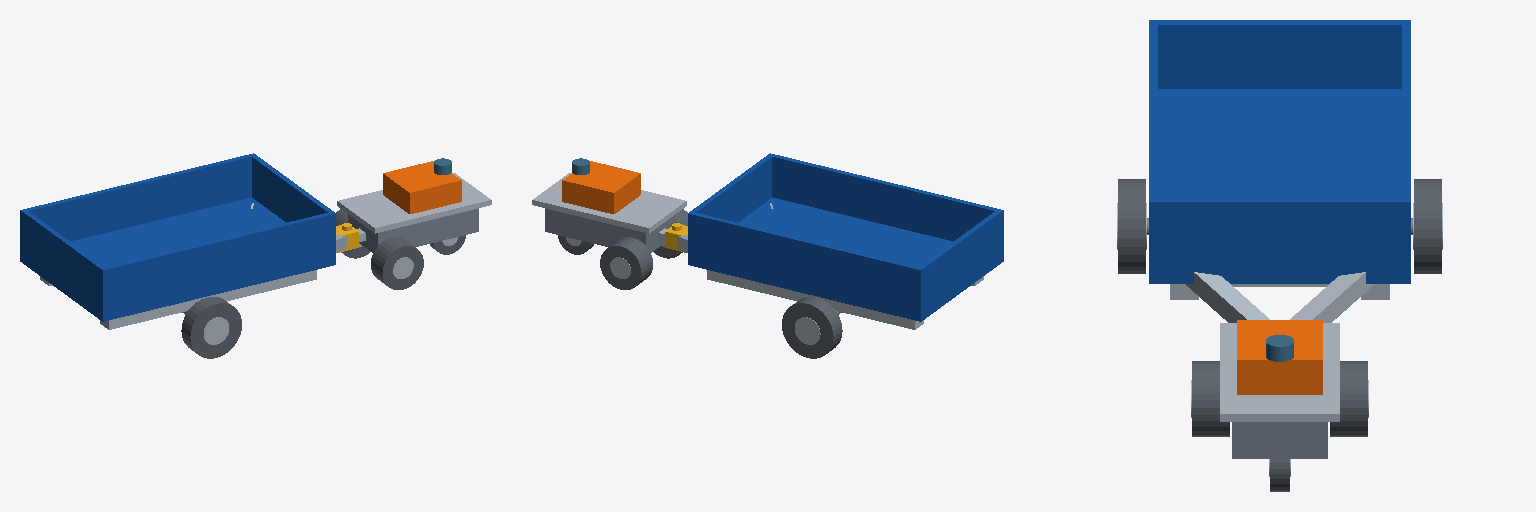
robot.urdf — innok223_01:
<?xml version="1.0" encoding="utf-8"?>
<robot name="innok223_01">
  <material name="innok_orange">
    <color rgba="0.98 0.48 0.10 1" />
  </material>
  <material name="chassis_grey">
    <color rgba="0.52 0.57 0.62 1" />
  </material>
  <material name="rubber">
    <color rgba="0.40 0.43 0.46 1" />
  </material>
  <material name="silver">
    <color rgba="0.72 0.76 0.80 1" />
  </material>
  <material name="deck_blue">
    <color rgba="0.13 0.40 0.72 1" />
  </material>
  <material name="sensor_dark">
    <color rgba="0.28 0.48 0.58 1" />
  </material>
  <link name="innok223_base_link">
    <inertial>
      <origin xyz="0.29 0 0.3" rpy="0 0 0" />
      <mass value="70" />
      <inertia ixx="1.2693333333333334" iyy="3.8850000000000002" izz="4.482333333333334" ixy="0" ixz="0" iyz="0" />
    </inertial>
    <visual name="innok223_base_link_visual_0">
      <origin xyz="0.29 0 0.3" rpy="0 0 0" />
      <geometry>
        <box size="0.78 0.4 0.2" />
      </geometry>
      <material name="chassis_grey">
        <color rgba="0.52 0.57 0.62 1" />
      </material>
    </visual>
    <collision name="innok223_base_link_collision_0">
      <origin xyz="0.29 0 0.3" rpy="0 0 0" />
      <geometry>
        <box size="0.78 0.4 0.2" />
      </geometry>
    </collision>
    <visual name="innok223_base_link_visual_1">
      <origin xyz="0.3 0 0.42" rpy="0 0 0" />
      <geometry>
        <box size="0.9 0.5 0.04" />
      </geometry>
      <material name="silver">
        <color rgba="0.72 0.76 0.80 1" />
      </material>
    </visual>
    <collision name="innok223_base_link_collision_1">
      <origin xyz="0.3 0 0.42" rpy="0 0 0" />
      <geometry>
        <box size="0.9 0.5 0.04" />
      </geometry>
    </collision>
    <visual name="innok223_base_link_visual_2">
      <origin xyz="0.36 0 0.52" rpy="0 0 0" />
      <geometry>
        <box size="0.4 0.36 0.16" />
      </geometry>
      <material name="innok_orange">
        <color rgba="0.98 0.48 0.10 1" />
      </material>
    </visual>
    <collision name="innok223_base_link_collision_2">
      <origin xyz="0.36 0 0.52" rpy="0 0 0" />
      <geometry>
        <box size="0.4 0.36 0.16" />
      </geometry>
    </collision>
    <visual name="innok223_base_link_visual_3">
      <origin xyz="0.52 0 0.635" rpy="0 0 0" />
      <geometry>
        <cylinder radius="0.06" length="0.07" />
      </geometry>
      <material name="sensor_dark">
        <color rgba="0.28 0.48 0.58 1" />
      </material>
    </visual>
    <visual name="innok223_base_link_visual_4">
      <origin xyz="-0.16 0 0.28" rpy="0 0 0" />
      <geometry>
        <box size="0.18 0.08 0.06" />
      </geometry>
      <material name="silver">
        <color rgba="0.72 0.76 0.80 1" />
      </material>
    </visual>
    <collision name="innok223_base_link_collision_3">
      <origin xyz="-0.16 0 0.28" rpy="0 0 0" />
      <geometry>
        <box size="0.18 0.08 0.06" />
      </geometry>
    </collision>
    <visual name="innok223_tow_pin_visual">
      <origin xyz="-0.22 0 0.30" rpy="0 0 0" />
      <geometry>
        <cylinder radius="0.032" length="0.16" />
      </geometry>
      <material name="coupler_yellow">
        <color rgba="0.98 0.74 0.15 1" />
      </material>
    </visual>
  </link>
  <link name="innok223_left_wheel_link">
    <inertial>
      <origin xyz="0 0 0" rpy="0 0 0" />
      <mass value="5.4" />
      <inertia ixx="0.04608" iyy="0.06912000000000001" izz="0.04608" ixy="0" ixz="0" iyz="0" />
    </inertial>
    <visual name="innok223_left_wheel_link_visual_0">
      <origin xyz="0 0 0" rpy="1.57079633 0 0" />
      <geometry>
        <cylinder radius="0.16" length="0.16" />
      </geometry>
      <material name="rubber">
        <color rgba="0.40 0.43 0.46 1" />
      </material>
    </visual>
    <collision name="innok223_left_wheel_link_collision_0">
      <origin xyz="0 0 0" rpy="1.57079633 0 0" />
      <geometry>
        <cylinder radius="0.16" length="0.16" />
      </geometry>
    </collision>
    <visual name="innok223_left_wheel_link_visual_1">
      <origin xyz="0 0 0" rpy="1.57079633 0 0" />
      <geometry>
        <cylinder radius="0.08" length="0.166" />
      </geometry>
      <material name="silver">
        <color rgba="0.72 0.76 0.80 1" />
      </material>
    </visual>
  </link>
  <joint name="innok223_left_wheel_joint" type="continuous">
    <parent link="innok223_base_link" />
    <child link="innok223_left_wheel_link" />
    <origin xyz="0 0.29 0.16" rpy="0 0 0" />
    <axis xyz="0 1 0" />
    <limit effort="300" velocity="20" />
    <dynamics damping="0.03" friction="0" />
  </joint>
  <gazebo reference="innok223_left_wheel_link">
    <mu1>1.0</mu1>
    <mu2>1.0</mu2>
  </gazebo>
  <link name="innok223_right_wheel_link">
    <inertial>
      <origin xyz="0 0 0" rpy="0 0 0" />
      <mass value="5.4" />
      <inertia ixx="0.04608" iyy="0.06912000000000001" izz="0.04608" ixy="0" ixz="0" iyz="0" />
    </inertial>
    <visual name="innok223_right_wheel_link_visual_0">
      <origin xyz="0 0 0" rpy="1.57079633 0 0" />
      <geometry>
        <cylinder radius="0.16" length="0.16" />
      </geometry>
      <material name="rubber">
        <color rgba="0.40 0.43 0.46 1" />
      </material>
    </visual>
    <collision name="innok223_right_wheel_link_collision_0">
      <origin xyz="0 0 0" rpy="1.57079633 0 0" />
      <geometry>
        <cylinder radius="0.16" length="0.16" />
      </geometry>
    </collision>
    <visual name="innok223_right_wheel_link_visual_1">
      <origin xyz="0 0 0" rpy="1.57079633 0 0" />
      <geometry>
        <cylinder radius="0.08" length="0.166" />
      </geometry>
      <material name="silver">
        <color rgba="0.72 0.76 0.80 1" />
      </material>
    </visual>
  </link>
  <joint name="innok223_right_wheel_joint" type="continuous">
    <parent link="innok223_base_link" />
    <child link="innok223_right_wheel_link" />
    <origin xyz="0 -0.29 0.16" rpy="0 0 0" />
    <axis xyz="0 1 0" />
    <limit effort="300" velocity="20" />
    <dynamics damping="0.03" friction="0" />
  </joint>
  <gazebo reference="innok223_right_wheel_link">
    <mu1>1.0</mu1>
    <mu2>1.0</mu2>
  </gazebo>
  <link name="innok223_caster_swivel_link">
    <inertial>
      <origin xyz="0 0 -0.06" rpy="0 0 0" />
      <mass value="2" />
      <inertia ixx="0.0048" iyy="0.0048" izz="0.0048" ixy="0" ixz="0" iyz="0" />
    </inertial>
    <visual name="innok223_caster_swivel_link_visual_0">
      <origin xyz="0 0 -0.06" rpy="0 0 0" />
      <geometry>
        <box size="0.12 0.12 0.12" />
      </geometry>
      <material name="chassis_grey">
        <color rgba="0.52 0.57 0.62 1" />
      </material>
    </visual>
    <collision name="innok223_caster_swivel_link_collision_0">
      <origin xyz="0 0 -0.06" rpy="0 0 0" />
      <geometry>
        <box size="0.12 0.12 0.12" />
      </geometry>
    </collision>
  </link>
  <joint name="innok223_caster_swivel_joint" type="revolute">
    <parent link="innok223_base_link" />
    <child link="innok223_caster_swivel_link" />
    <origin xyz="0.55 0 0.3" rpy="0 0 0" />
    <axis xyz="0 0 1" />
    <limit effort="300" velocity="1.0" lower="-1.48352986419518" upper="1.48352986419518" />
    <dynamics damping="0.05" friction="0" />
  </joint>
  <link name="innok223_caster_wheel_link">
    <inertial>
      <origin xyz="0 0 0" rpy="0 0 0" />
      <mass value="3" />
      <inertia ixx="0.013525" iyy="0.0234375" izz="0.013525" ixy="0" ixz="0" iyz="0" />
    </inertial>
    <visual name="innok223_caster_wheel_link_visual_0">
      <origin xyz="0 0 0" rpy="1.57079633 0 0" />
      <geometry>
        <cylinder radius="0.125" length="0.085" />
      </geometry>
      <material name="rubber">
        <color rgba="0.40 0.43 0.46 1" />
      </material>
    </visual>
    <collision name="innok223_caster_wheel_link_collision_0">
      <origin xyz="0 0 0" rpy="1.57079633 0 0" />
      <geometry>
        <cylinder radius="0.125" length="0.085" />
      </geometry>
    </collision>
    <visual name="innok223_caster_wheel_link_visual_1">
      <origin xyz="0 0 0" rpy="1.57079633 0 0" />
      <geometry>
        <cylinder radius="0.0625" length="0.09100000000000001" />
      </geometry>
      <material name="silver">
        <color rgba="0.72 0.76 0.80 1" />
      </material>
    </visual>
  </link>
  <joint name="innok223_caster_wheel_joint" type="continuous">
    <parent link="innok223_caster_swivel_link" />
    <child link="innok223_caster_wheel_link" />
    <origin xyz="0 0 -0.175" rpy="0 0 0" />
    <axis xyz="0 1 0" />
    <limit effort="300" velocity="20" />
    <dynamics damping="0.03" friction="0" />
  </joint>
  <gazebo reference="innok223_caster_wheel_link">
    <mu1>1.0</mu1>
    <mu2>1.0</mu2>
  </gazebo>
  <link name="innok223_trailer_link">
    <inertial>
      <origin xyz="-1.3000000000000003 0.0 0.13571428571428568" rpy="0 0 0" />
      <mass value="70" />
      <inertia ixx="8.95024761904762" iyy="21.72884761904762" izz="29.057666666666673" ixy="0.0" ixz="-5.551115123125783e-17" iyz="0.0" />
    </inertial>
    <visual name="innok223_trailer_link_visual_0">
      <origin xyz="-1.3 0 0.16" rpy="0 0 0" />
      <geometry>
        <box size="1.8 1.1 0.08" />
      </geometry>
      <material name="deck_blue">
        <color rgba="0.13 0.40 0.72 1" />
      </material>
    </visual>
    <collision name="innok223_trailer_link_collision_0">
      <origin xyz="-1.3 0 0.16" rpy="0 0 0" />
      <geometry>
        <box size="1.8 1.1 0.08" />
      </geometry>
    </collision>
    <visual name="innok223_trailer_link_visual_1">
      <origin xyz="-1.3 0.4 0.06" rpy="0 0 0" />
      <geometry>
        <box size="1.6 0.12 0.12" />
      </geometry>
      <material name="silver">
        <color rgba="0.72 0.76 0.80 1" />
      </material>
    </visual>
    <collision name="innok223_trailer_link_collision_1">
      <origin xyz="-1.3 0.4 0.06" rpy="0 0 0" />
      <geometry>
        <box size="1.6 0.12 0.12" />
      </geometry>
    </collision>
    <visual name="innok223_trailer_link_visual_2">
      <origin xyz="-1.3 -0.4 0.06" rpy="0 0 0" />
      <geometry>
        <box size="1.6 0.12 0.12" />
      </geometry>
      <material name="silver">
        <color rgba="0.72 0.76 0.80 1" />
      </material>
    </visual>
    <collision name="innok223_trailer_link_collision_2">
      <origin xyz="-1.3 -0.4 0.06" rpy="0 0 0" />
      <geometry>
        <box size="1.6 0.12 0.12" />
      </geometry>
    </collision>
    <visual name="innok223_trailer_link_visual_3">
      <origin xyz="-1.4 0 -0.08" rpy="1.57079633 0 0" />
      <geometry>
        <cylinder radius="0.035" length="1.24" />
      </geometry>
      <material name="chassis_grey">
        <color rgba="0.52 0.57 0.62 1" />
      </material>
    </visual>
    <collision name="innok223_trailer_link_collision_3">
      <origin xyz="-1.4 0 -0.08" rpy="1.57079633 0 0" />
      <geometry>
        <cylinder radius="0.035" length="1.24" />
      </geometry>
    </collision>
    <visual name="innok223_trailer_link_visual_4">
      <origin xyz="0 0 0" rpy="0 0 0" />
      <geometry>
        <sphere radius="0.048" />
      </geometry>
      <material name="silver">
        <color rgba="0.72 0.76 0.80 1" />
      </material>
    </visual>
    <visual name="innok223_tongue_left_visual">
      <origin xyz="-0.27 0.2 0.08" rpy="0 0.24486385420562135 -0.6747409422235527" />
      <geometry>
        <box size="0.66 0.09 0.09" />
      </geometry>
      <material name="silver">
        <color rgba="0.72 0.76 0.80 1" />
      </material>
    </visual>
    <collision name="innok223_tongue_left_collision">
      <origin xyz="-0.27 0.2 0.08" rpy="0 0.24486385420562135 -0.6747409422235527" />
      <geometry>
        <box size="0.66 0.09 0.09" />
      </geometry>
    </collision>
    <visual name="innok223_tongue_right_visual">
      <origin xyz="-0.27 -0.2 0.08" rpy="0 0.24486385420562135 0.6747409422235527" />
      <geometry>
        <box size="0.66 0.09 0.09" />
      </geometry>
      <material name="silver">
        <color rgba="0.72 0.76 0.80 1" />
      </material>
    </visual>
    <collision name="innok223_tongue_right_collision">
      <origin xyz="-0.27 -0.2 0.08" rpy="0 0.24486385420562135 0.6747409422235527" />
      <geometry>
        <box size="0.66 0.09 0.09" />
      </geometry>
    </collision>
    <visual name="innok223_tongue_crossmember_visual">
      <origin xyz="-0.52 0 0.14" rpy="0 0 0" />
      <geometry>
        <box size="0.16 0.88 0.1" />
      </geometry>
      <material name="silver">
        <color rgba="0.72 0.76 0.80 1" />
      </material>
    </visual>
    <collision name="innok223_tongue_crossmember_collision">
      <origin xyz="-0.52 0 0.14" rpy="0 0 0" />
      <geometry>
        <box size="0.16 0.88 0.1" />
      </geometry>
    </collision>
    <visual name="innok223_coupler_sleeve_visual">
      <origin xyz="-0.03 0 0.01" rpy="0 0 0" />
      <geometry>
        <box size="0.16 0.15 0.12" />
      </geometry>
      <material name="coupler_yellow">
        <color rgba="0.98 0.74 0.15 1" />
      </material>
    </visual>
    <collision name="innok223_coupler_sleeve_collision">
      <origin xyz="-0.03 0 0.01" rpy="0 0 0" />
      <geometry>
        <box size="0.16 0.15 0.12" />
      </geometry>
    </collision>
    <visual name="innok223_left_sideboard_visual">
      <origin xyz="-1.3 0.53 0.35" rpy="0 0 0" />
      <geometry>
        <box size="1.8 0.04 0.3" />
      </geometry>
      <material name="deck_blue">
        <color rgba="0.13 0.40 0.72 1" />
      </material>
    </visual>
    <collision name="innok223_left_sideboard_collision">
      <origin xyz="-1.3 0.53 0.35" rpy="0 0 0" />
      <geometry>
        <box size="1.8 0.04 0.3" />
      </geometry>
    </collision>
    <visual name="innok223_right_sideboard_visual">
      <origin xyz="-1.3 -0.53 0.35" rpy="0 0 0" />
      <geometry>
        <box size="1.8 0.04 0.3" />
      </geometry>
      <material name="deck_blue">
        <color rgba="0.13 0.40 0.72 1" />
      </material>
    </visual>
    <collision name="innok223_right_sideboard_collision">
      <origin xyz="-1.3 -0.53 0.35" rpy="0 0 0" />
      <geometry>
        <box size="1.8 0.04 0.3" />
      </geometry>
    </collision>
    <visual name="innok223_front_sideboard_visual">
      <origin xyz="-0.42 0 0.35" rpy="0 0 0" />
      <geometry>
        <box size="0.04 1.1 0.3" />
      </geometry>
      <material name="deck_blue">
        <color rgba="0.13 0.40 0.72 1" />
      </material>
    </visual>
    <collision name="innok223_front_sideboard_collision">
      <origin xyz="-0.42 0 0.35" rpy="0 0 0" />
      <geometry>
        <box size="0.04 1.1 0.3" />
      </geometry>
    </collision>
    <visual name="innok223_rear_sideboard_visual">
      <origin xyz="-2.18 0 0.35" rpy="0 0 0" />
      <geometry>
        <box size="0.04 1.1 0.3" />
      </geometry>
      <material name="deck_blue">
        <color rgba="0.13 0.40 0.72 1" />
      </material>
    </visual>
    <collision name="innok223_rear_sideboard_collision">
      <origin xyz="-2.18 0 0.35" rpy="0 0 0" />
      <geometry>
        <box size="0.04 1.1 0.3" />
      </geometry>
    </collision>
  </link>
  <joint name="innok223_trailer_hitch_joint" type="revolute">
    <parent link="innok223_base_link" />
    <child link="innok223_trailer_link" />
    <origin xyz="-0.22 0 0.28" rpy="0 0 0" />
    <axis xyz="0 0 1" />
    <limit effort="300" velocity="20" lower="-1.3962634" upper="1.3962634" />
    <dynamics damping="0.12" friction="0" />
  </joint>
  <link name="innok223_trailer_left_wheel_link">
    <inertial>
      <origin xyz="0 0 0" rpy="0 0 0" />
      <mass value="4" />
      <inertia ixx="0.044800000000000006" iyy="0.08000000000000002" izz="0.044800000000000006" ixy="0" ixz="0" iyz="0" />
    </inertial>
    <visual name="innok223_trailer_left_wheel_link_visual_0">
      <origin xyz="0 0 0" rpy="1.57079633 0 0" />
      <geometry>
        <cylinder radius="0.2" length="0.12" />
      </geometry>
      <material name="rubber">
        <color rgba="0.40 0.43 0.46 1" />
      </material>
    </visual>
    <collision name="innok223_trailer_left_wheel_link_collision_0">
      <origin xyz="0 0 0" rpy="1.57079633 0 0" />
      <geometry>
        <cylinder radius="0.2" length="0.12" />
      </geometry>
    </collision>
    <visual name="innok223_trailer_left_wheel_link_visual_1">
      <origin xyz="0 0 0" rpy="1.57079633 0 0" />
      <geometry>
        <cylinder radius="0.1" length="0.126" />
      </geometry>
      <material name="silver">
        <color rgba="0.72 0.76 0.80 1" />
      </material>
    </visual>
  </link>
  <joint name="innok223_trailer_left_wheel_joint" type="continuous">
    <parent link="innok223_trailer_link" />
    <child link="innok223_trailer_left_wheel_link" />
    <origin xyz="-1.4 0.62 -0.08" rpy="0 0 0" />
    <axis xyz="0 1 0" />
    <limit effort="300" velocity="20" />
    <dynamics damping="0.03" friction="0" />
  </joint>
  <gazebo reference="innok223_trailer_left_wheel_link">
    <mu1>1.0</mu1>
    <mu2>1.0</mu2>
  </gazebo>
  <link name="innok223_trailer_right_wheel_link">
    <inertial>
      <origin xyz="0 0 0" rpy="0 0 0" />
      <mass value="4" />
      <inertia ixx="0.044800000000000006" iyy="0.08000000000000002" izz="0.044800000000000006" ixy="0" ixz="0" iyz="0" />
    </inertial>
    <visual name="innok223_trailer_right_wheel_link_visual_0">
      <origin xyz="0 0 0" rpy="1.57079633 0 0" />
      <geometry>
        <cylinder radius="0.2" length="0.12" />
      </geometry>
      <material name="rubber">
        <color rgba="0.40 0.43 0.46 1" />
      </material>
    </visual>
    <collision name="innok223_trailer_right_wheel_link_collision_0">
      <origin xyz="0 0 0" rpy="1.57079633 0 0" />
      <geometry>
        <cylinder radius="0.2" length="0.12" />
      </geometry>
    </collision>
    <visual name="innok223_trailer_right_wheel_link_visual_1">
      <origin xyz="0 0 0" rpy="1.57079633 0 0" />
      <geometry>
        <cylinder radius="0.1" length="0.126" />
      </geometry>
      <material name="silver">
        <color rgba="0.72 0.76 0.80 1" />
      </material>
    </visual>
  </link>
  <joint name="innok223_trailer_right_wheel_joint" type="continuous">
    <parent link="innok223_trailer_link" />
    <child link="innok223_trailer_right_wheel_link" />
    <origin xyz="-1.4 -0.62 -0.08" rpy="0 0 0" />
    <axis xyz="0 1 0" />
    <limit effort="300" velocity="20" />
    <dynamics damping="0.03" friction="0" />
  </joint>
  <gazebo reference="innok223_trailer_right_wheel_link">
    <mu1>1.0</mu1>
    <mu2>1.0</mu2>
  </gazebo>
  <link name="innok223_cargo_frame" />
  <joint name="innok223_cargo_frame_joint" type="fixed">
    <parent link="innok223_trailer_link" />
    <child link="innok223_cargo_frame" />
    <origin xyz="-1.3 0 0.2" rpy="0 0 0" />
  </joint>
  <gazebo>
    <plugin name="ignition::gazebo::systems::DiffDrive" filename="ignition-gazebo-diff-drive-system">
      <left_joint>innok223_left_wheel_joint</left_joint>
      <right_joint>innok223_right_wheel_joint</right_joint>
      <wheel_separation>0.58</wheel_separation>
      <wheel_radius>0.16</wheel_radius>
      <topic>/innok223/cmd_vel</topic>
      <odom_topic>/innok223/odom</odom_topic>
      <tf_topic>/innok223/odom_tf</tf_topic>
      <frame_id>innok223_odom</frame_id>
      <child_frame_id>innok223_base_link</child_frame_id>
      <odom_publish_frequency>30</odom_publish_frequency>
      <min_linear_velocity>-0.35</min_linear_velocity>
      <max_linear_velocity>0.7</max_linear_velocity>
      <min_angular_velocity>-0.55</min_angular_velocity>
      <max_angular_velocity>0.55</max_angular_velocity>
      <min_linear_acceleration>-0.45</min_linear_acceleration>
      <max_linear_acceleration>0.45</max_linear_acceleration>
      <min_angular_acceleration>-0.7</min_angular_acceleration>
      <max_angular_acceleration>0.7</max_angular_acceleration>
    </plugin>
  </gazebo>
  <gazebo>
    <plugin name="ignition::gazebo::systems::JointStatePublisher" filename="ignition-gazebo-joint-state-publisher-system">
      <topic>/innok223/joint_states</topic>
      <update_rate>30</update_rate>
    </plugin>
  </gazebo>
  <gazebo>
    <plugin name="ignition::gazebo::systems::PosePublisher" filename="ignition-gazebo-pose-publisher-system">
      <publish_link_pose>true</publish_link_pose>
      <publish_sensor_pose>false</publish_sensor_pose>
      <publish_collision_pose>false</publish_collision_pose>
      <publish_visual_pose>false</publish_visual_pose>
      <publish_nested_model_pose>true</publish_nested_model_pose>
      <use_pose_vector_msg>true</use_pose_vector_msg>
      <update_frequency>20</update_frequency>
      <publish_model_pose>true</publish_model_pose>
    </plugin>
  </gazebo>
  <material name="coupler_yellow">
    <color rgba="0.98 0.74 0.15 1" />
  </material>
  <gazebo>
    <plugin name="ignition::gazebo::systems::JointPositionController" filename="ignition-gazebo-joint-position-controller-system">
      <joint_name>innok223_caster_swivel_joint</joint_name>
      <topic>/innok223/steering_cmd</topic>
      <use_velocity_commands>true</use_velocity_commands>
      <p_gain>8</p_gain>
      <cmd_max>0.8</cmd_max><cmd_min>-0.8</cmd_min>
      <initial_position>0</initial_position>
    </plugin>
  </gazebo>
</robot>

--- Facts derived from the render (not from the file) ---
Views: 3 orthographic renders of the robot side by side, from view 1: azimuth 30°, elevation 25°; view 2: azimuth 150°, elevation 25°; view 3: azimuth 270°, elevation 25°.
Model innok223_01 with 9 links and 8 joints (2 revolute, 5 continuous, 1 fixed), rooted at innok223_base_link, posed every joint at zero.
Links seen in each view (by area): view 1: innok223_trailer_link, innok223_base_link, innok223_trailer_right_wheel_link, innok223_right_wheel_link; view 2: innok223_trailer_link, innok223_base_link, innok223_trailer_left_wheel_link, innok223_left_wheel_link; view 3: innok223_trailer_link, innok223_base_link, innok223_trailer_left_wheel_link, innok223_trailer_right_wheel_link, innok223_left_wheel_link, innok223_right_wheel_link, innok223_caster_wheel_link.
Boxes of the visible links, <box> form: innok223_trailer_link: <box>20,153,358,329</box>; innok223_base_link: <box>337,158,491,252</box>; innok223_trailer_right_wheel_link: <box>181,297,241,358</box>; innok223_right_wheel_link: <box>371,237,423,289</box>; innok223_trailer_link: <box>665,153,1003,329</box>; innok223_base_link: <box>532,158,686,252</box>; innok223_trailer_left_wheel_link: <box>782,297,842,358</box>; innok223_left_wheel_link: <box>600,237,652,289</box>; innok223_trailer_link: <box>1147,20,1412,322</box>; innok223_base_link: <box>1220,320,1339,458</box>; innok223_trailer_left_wheel_link: <box>1413,179,1442,273</box>; innok223_trailer_right_wheel_link: <box>1117,179,1146,273</box>; innok223_left_wheel_link: <box>1330,361,1368,436</box>; innok223_right_wheel_link: <box>1191,361,1229,436</box>; innok223_caster_wheel_link: <box>1269,459,1290,491</box>.
Size in the robot's own frame: 3.17 by 1.37 by 0.78 metres.
Geometry: primitives only (box / cylinder / sphere), no mesh files.
